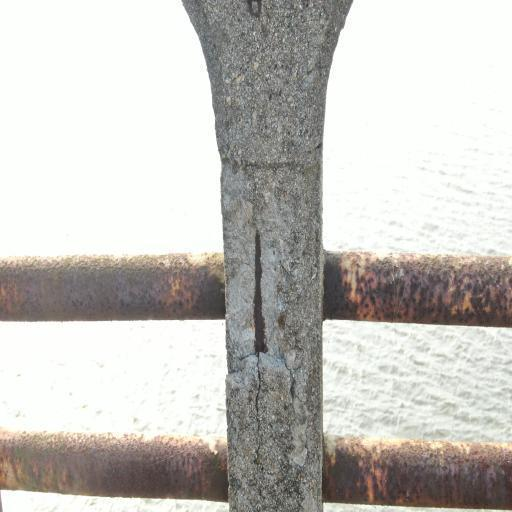exposed_rebar: (253, 231, 268, 353)
